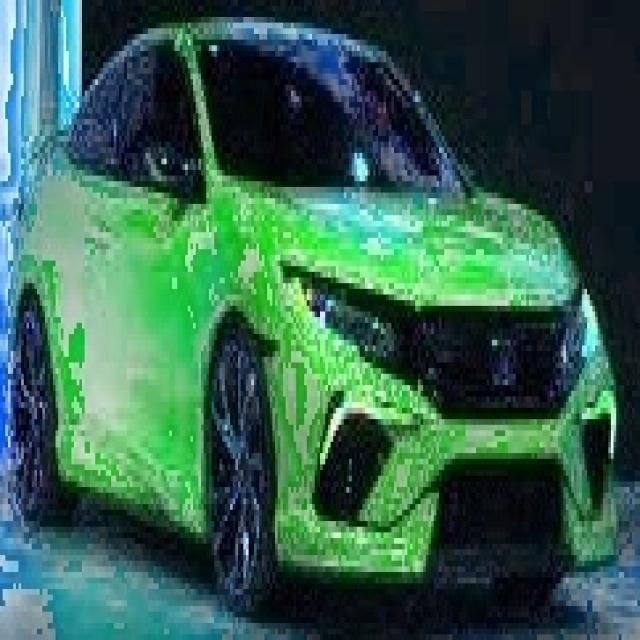green: (9, 17, 618, 617)
